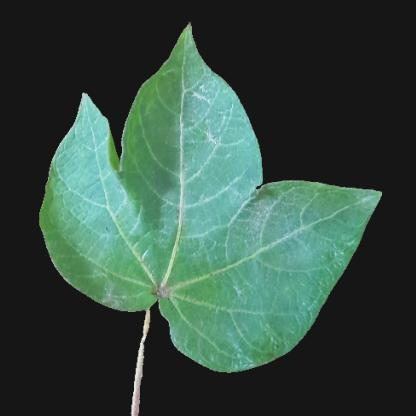healthy: (169, 192, 299, 328), (71, 173, 153, 287), (139, 113, 259, 182), (301, 192, 353, 263), (157, 67, 221, 107)
